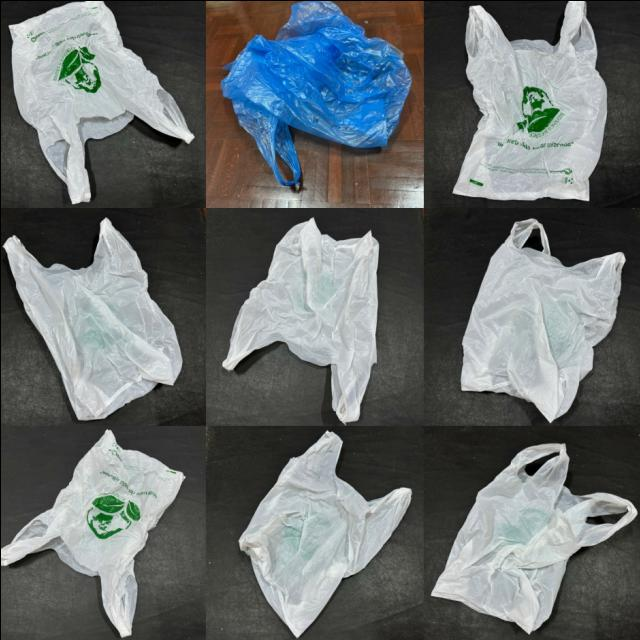plastik: (430, 442, 636, 632), (0, 430, 184, 636), (9, 0, 193, 202), (2, 218, 181, 419), (239, 431, 411, 636), (221, 0, 410, 184), (461, 218, 624, 421), (222, 218, 378, 421), (453, 0, 606, 200)
